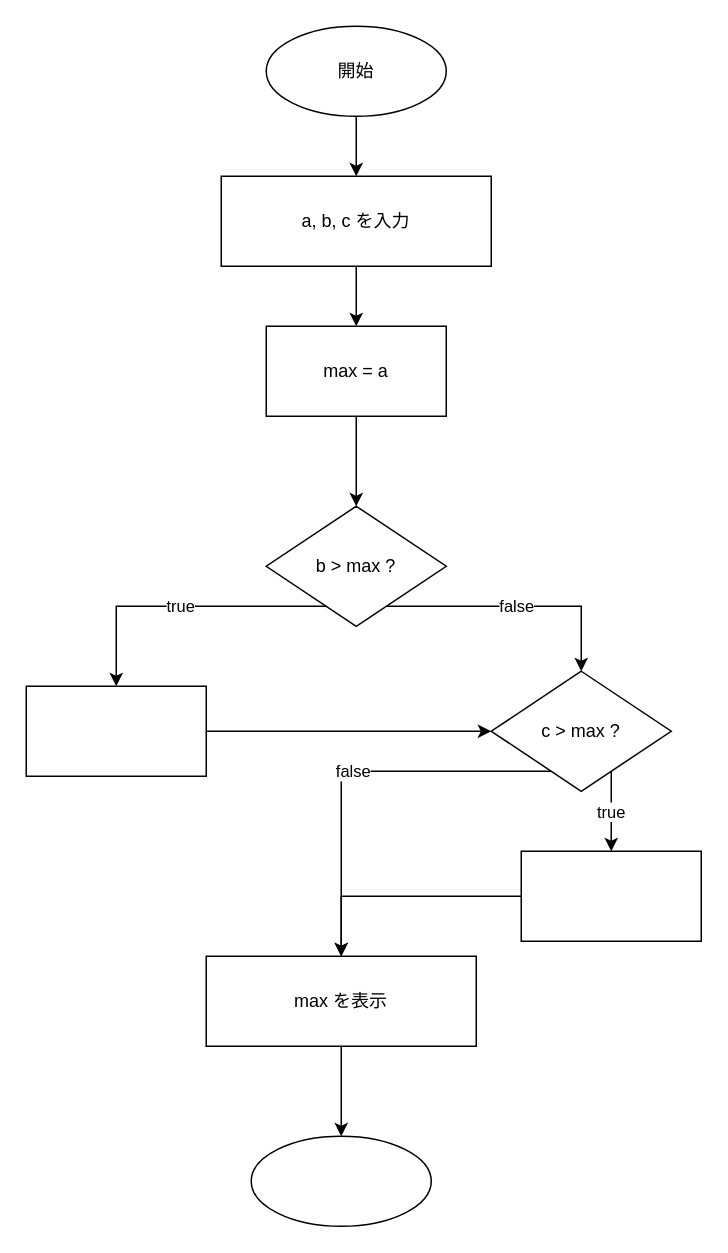
Some shapes in this 728 by 1253 pixel diagram are drawn without their labels. The shapes that lost their labels are listed below. From the top down, each one's box as (x1, y1, x2, y2) in pixels, then its label:
(25, 685, 206, 776): max = b
(520, 850, 701, 941): max = c
(250, 1135, 431, 1226): 終了
